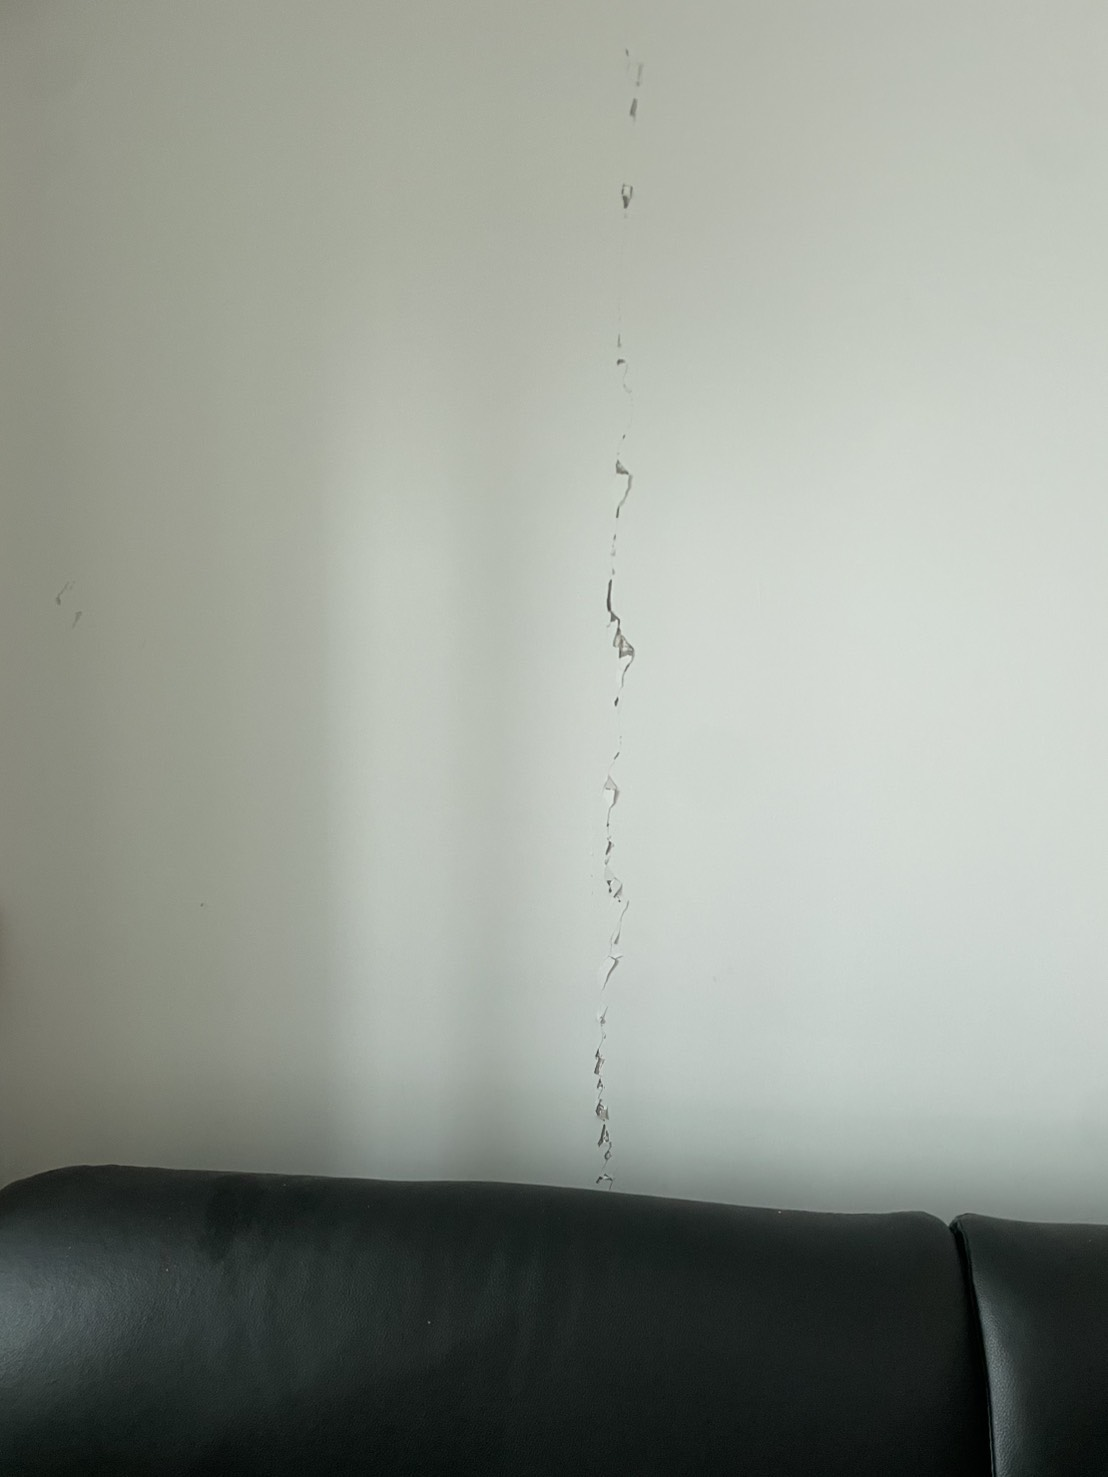Low: (581, 1, 720, 1180)
